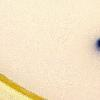Blue: (95, 38, 100, 51)
